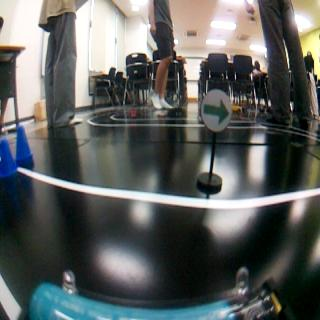right: (199, 88, 231, 133)
